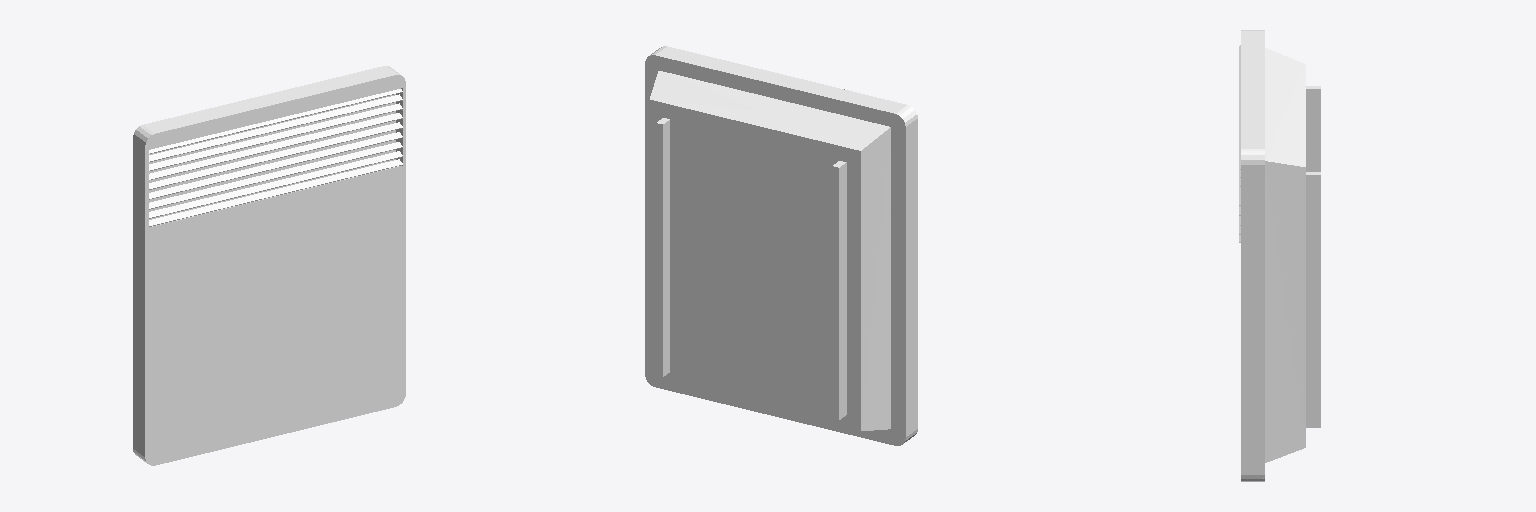
3 renders of one model, left to right at view 1: azimuth 30°, elevation 25°; view 2: azimuth 150°, elevation 25°; view 3: azimuth 270°, elevation 25°, orthographic.
Visible parts, largest first — view 1: Corps_1, Ailette_3_5, Ailette_6_8, Ailette_8_10, Ailette_2, Ailette_1_3, Ailette_2_4, Ailette_4_6, Ailette_5_7, Ailette_7_9; view 2: Corps_1, Accroche_11, Accroche_1_12; view 3: Corps_1, Accroche_1_12, Accroche_11.
Part boxes in pixels (x1,y1,x2,y2): Corps_1: (133,66,405,465); Ailette_3_5: (149,122,402,189); Ailette_6_8: (149,94,402,161); Ailette_8_10: (149,159,402,226); Ailette_2: (149,151,402,218); Ailette_1_3: (149,142,402,209); Ailette_2_4: (149,132,402,199); Ailette_4_6: (149,113,402,179); Ailette_5_7: (149,103,402,170); Ailette_7_9: (149,89,402,153); Corps_1: (645,46,917,445); Accroche_11: (832,161,846,419); Accroche_1_12: (656,118,669,376); Corps_1: (1241,30,1305,481); Accroche_1_12: (1306,172,1320,427); Accroche_11: (1306,86,1320,171).
Size of the model in its own units: 0.37 by 0.45 by 0.0998.